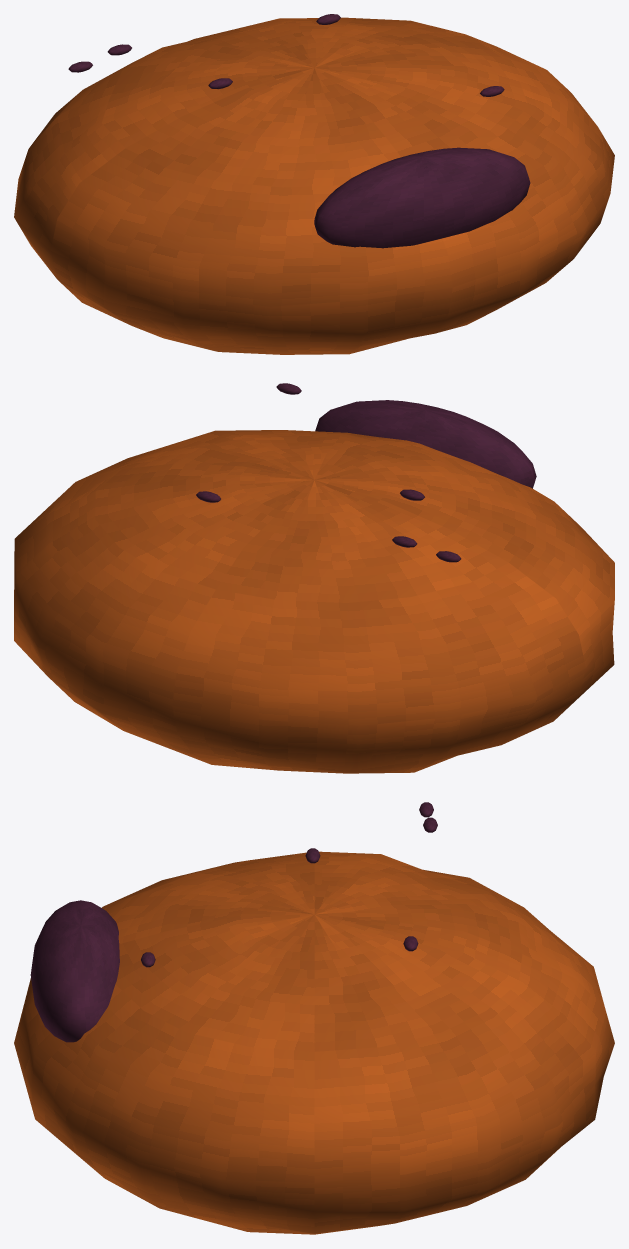
File: bread_koshian.glb
3 renders of one model, top to bottom at view 1: azimuth 30°, elevation 25°; view 2: azimuth 150°, elevation 25°; view 3: azimuth 270°, elevation 25°, orthographic. The views are drawn at different scales.
Parts seen in each view (by area): view 1: ふっくらした生地.010, こしあんのぞき窓; view 2: ふっくらした生地.010, こしあんのぞき窓; view 3: ふっくらした生地.010, こしあんのぞき窓.
Boxes of the visible parts, <box> form: ふっくらした生地.010: <box>14,17,614,354</box>; こしあんのぞき窓: <box>314,147,530,248</box>; ふっくらした生地.010: <box>14,430,614,773</box>; こしあんのぞき窓: <box>315,400,536,488</box>; ふっくらした生地.010: <box>14,851,614,1234</box>; こしあんのぞき窓: <box>30,900,119,1042</box>.
Size of the model in its own units: 0.7929 by 0.3651 by 0.72.
Materials: 2 (2 with a texture image).
